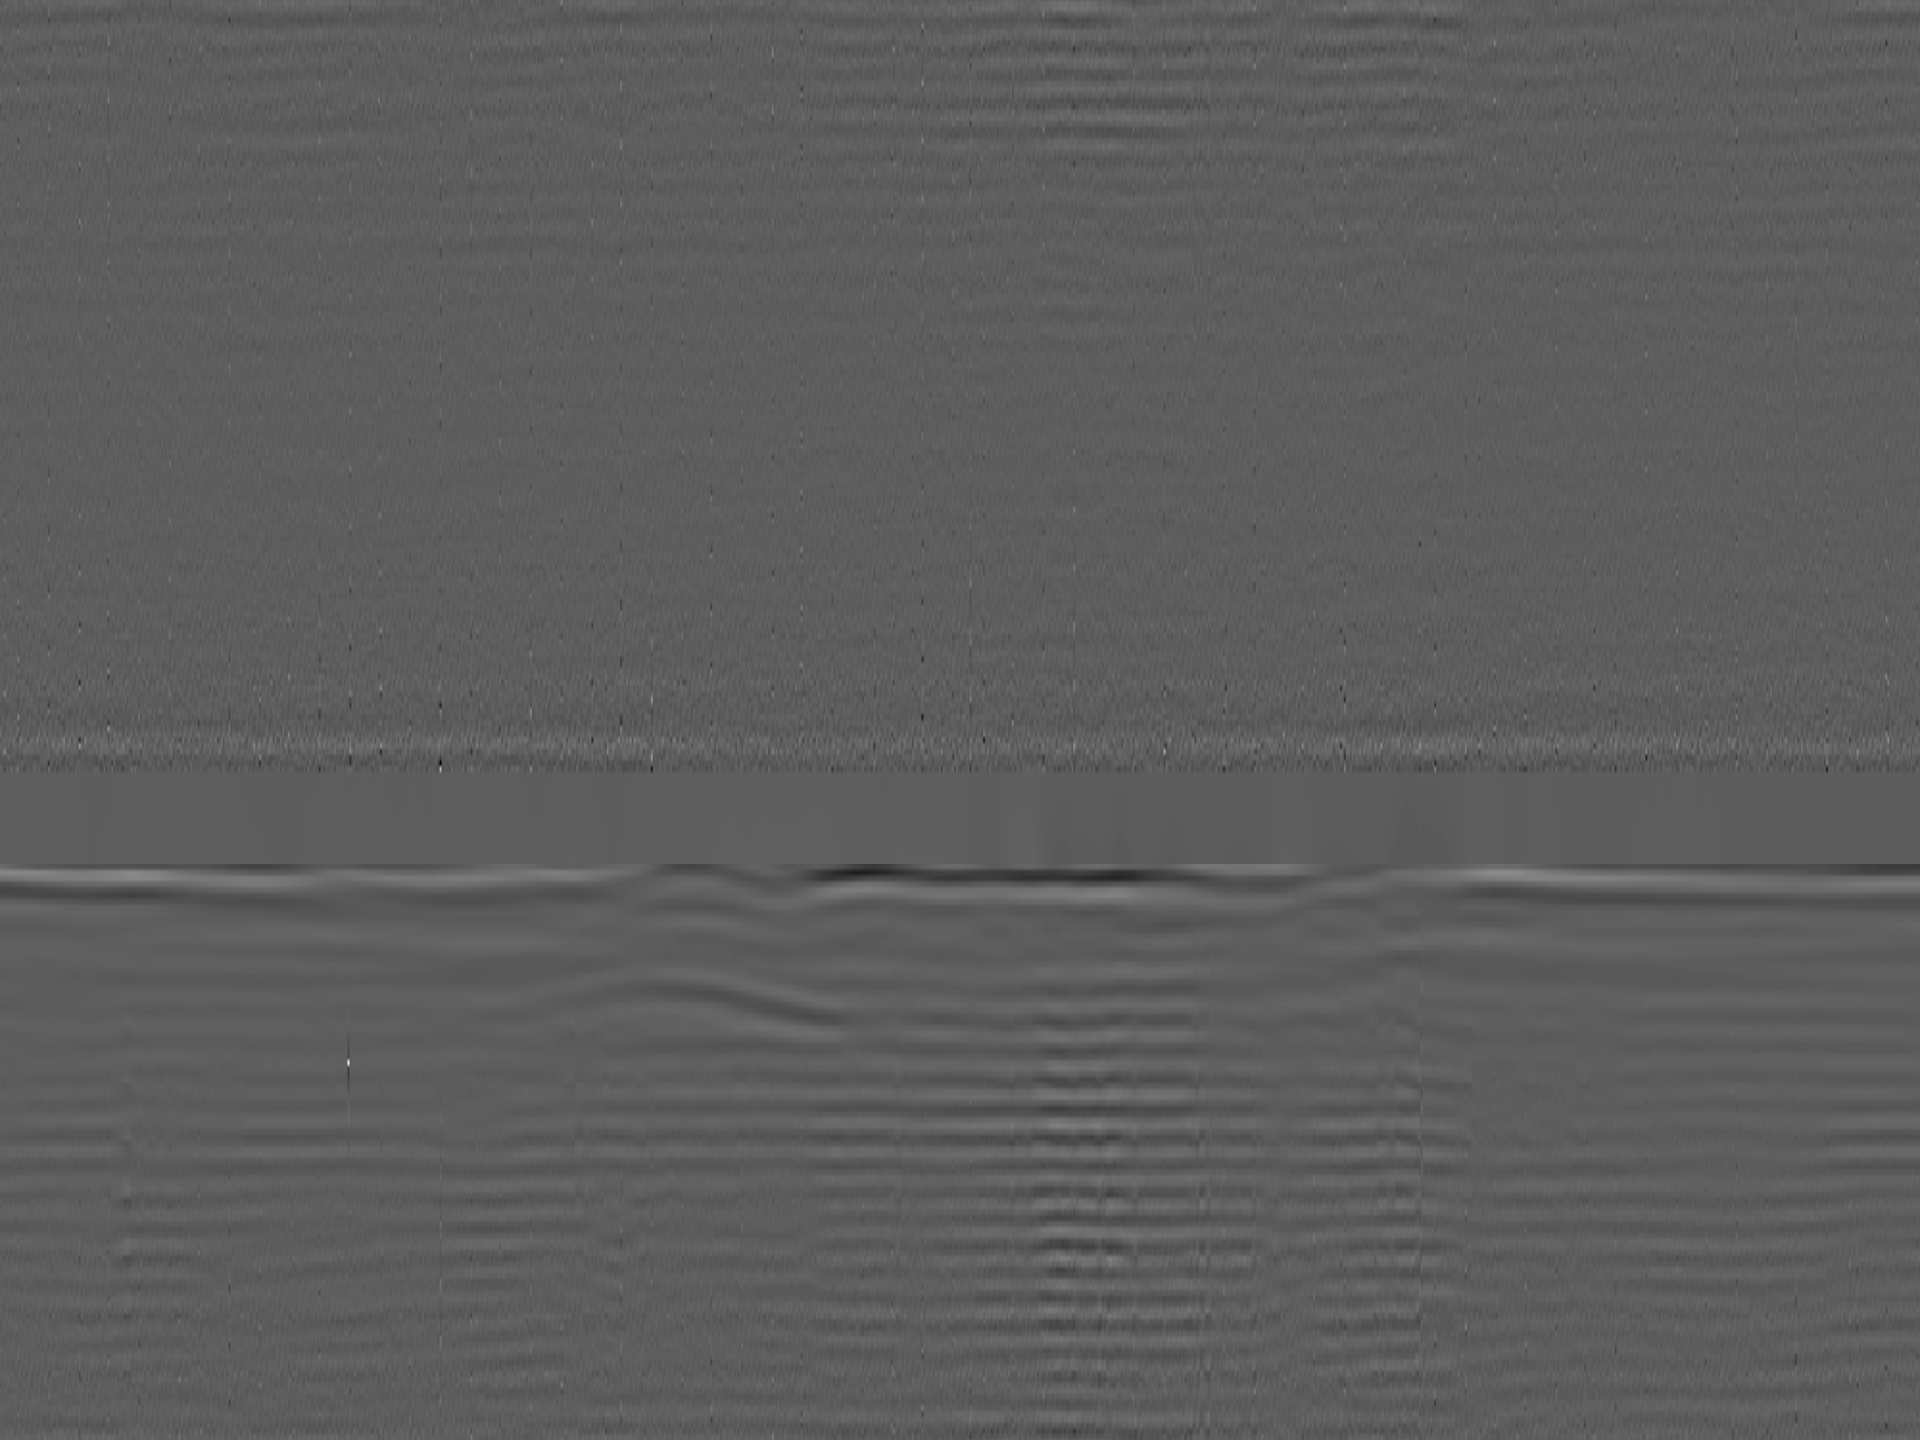Tunnel: (478, 968, 862, 1036)
